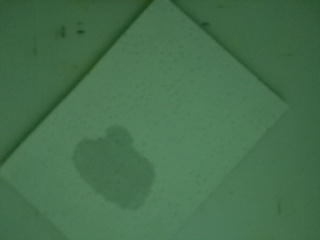Water_detected: (78, 139, 140, 194)
